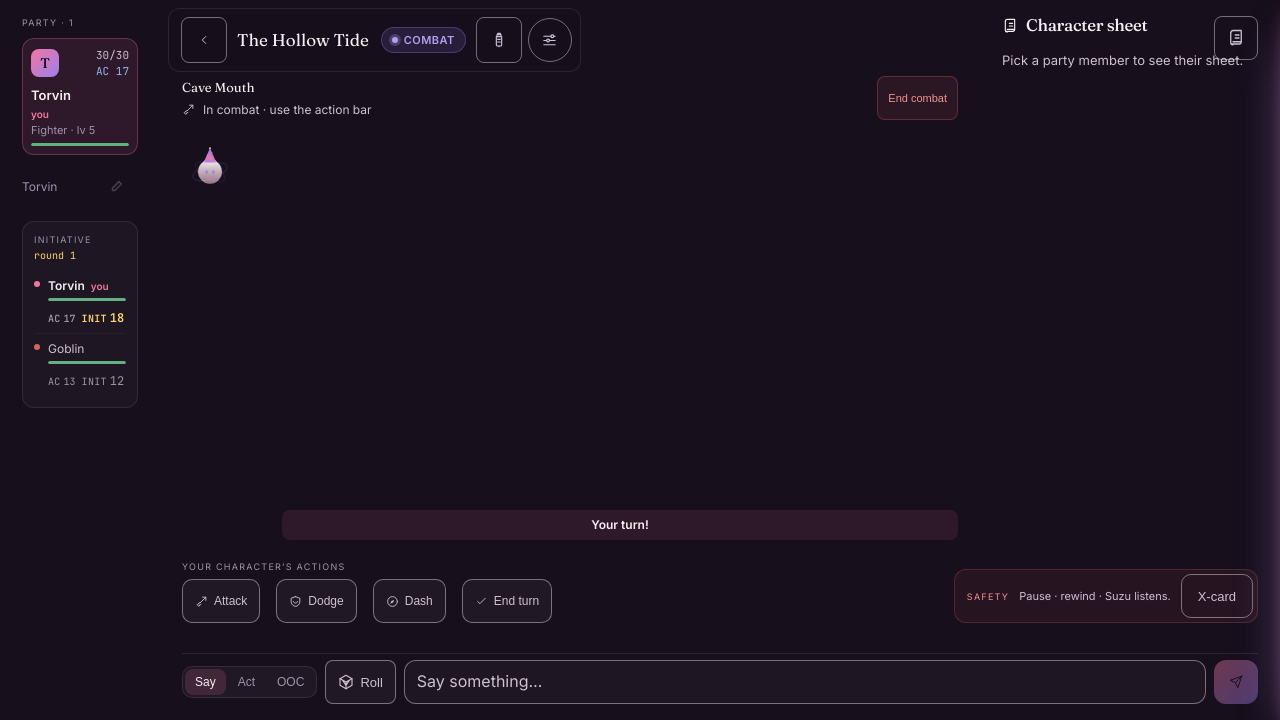
TAV-401-ACTOR-REQUIRED-UNMAPPED — actor_required 401 › a 401 actor_required refusal (no `state`, message ABSENT) surfaces the curated identity copy, not the generic fallback
This screenshot has width=1280, height=720.
Expected: the text "The Hollow Tide" is shown, 237,27 -> 369,53
Click the button "Dodge" at (317, 601), box 276,579 -> 357,623
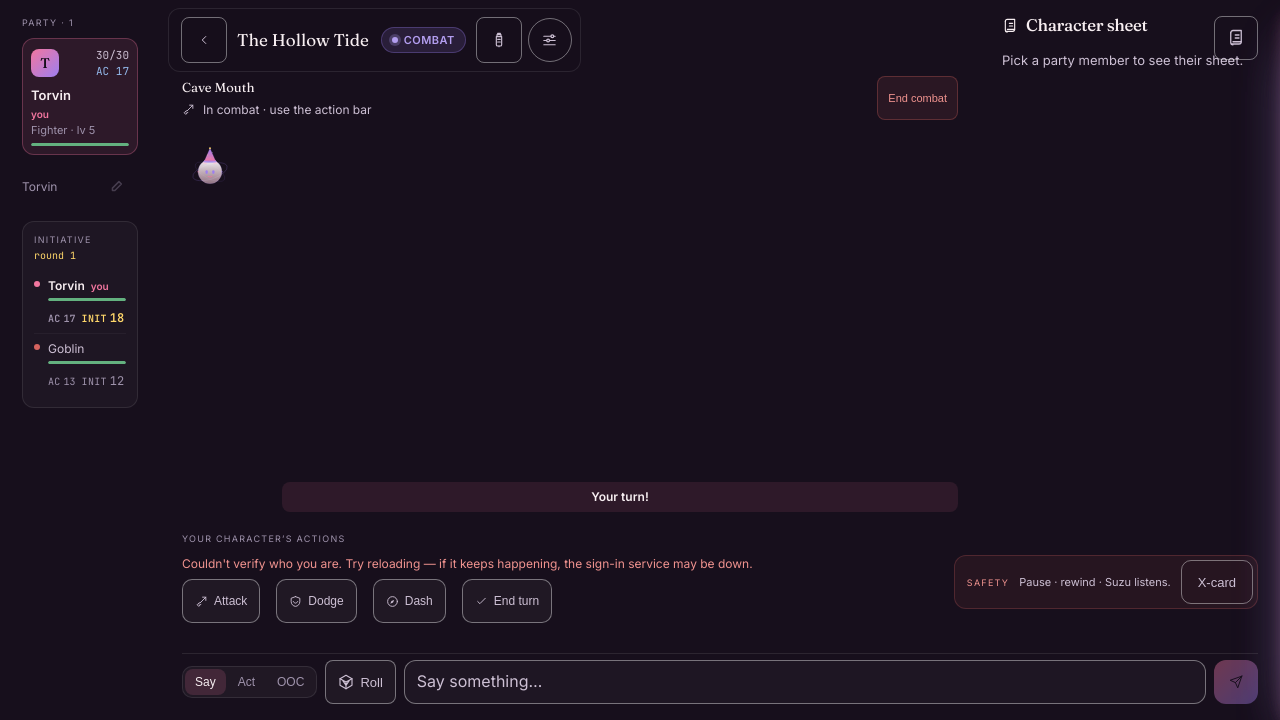
Now the 4th message shows "Couldn't verify who you are. Try reloading — if it keeps happening, the sign-in service may be down.", box 182,556 -> 753,571
